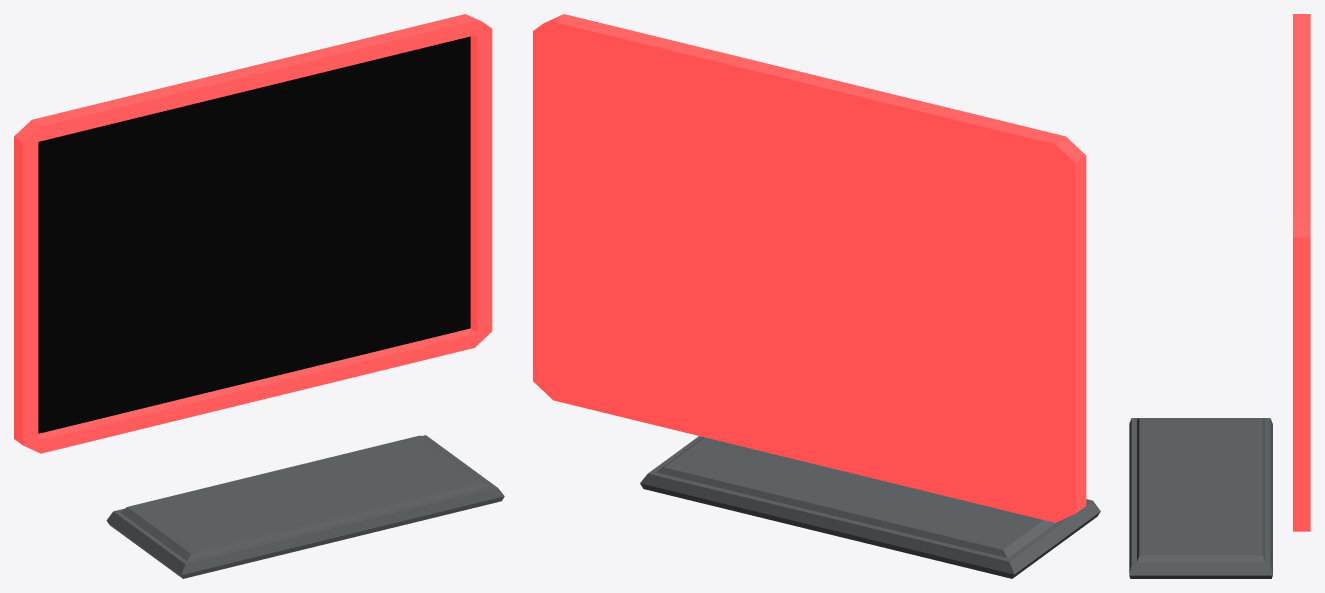
Rendered from computer.glb.
3 views of the same model, side by side, from view 1: azimuth 30°, elevation 25°; view 2: azimuth 150°, elevation 25°; view 3: azimuth 270°, elevation 25° (orthographic). The views are drawn at different scales.
Visible parts, largest first — view 1: computer_screen, computer_frame, computer_keyboard; view 2: computer_frame, computer_keyboard; view 3: computer_keyboard, computer_frame.
Boxes of the visible parts, <box> form: computer_screen: <box>38,36,470,433</box>; computer_frame: <box>14,14,492,453</box>; computer_keyboard: <box>106,435,504,578</box>; computer_frame: <box>533,14,1086,522</box>; computer_keyboard: <box>640,436,1100,578</box>; computer_keyboard: <box>1129,418,1272,578</box>; computer_frame: <box>1293,14,1310,531</box>.
Size of the model in its own units: 0.56 by 0.4616 by 0.1954.
